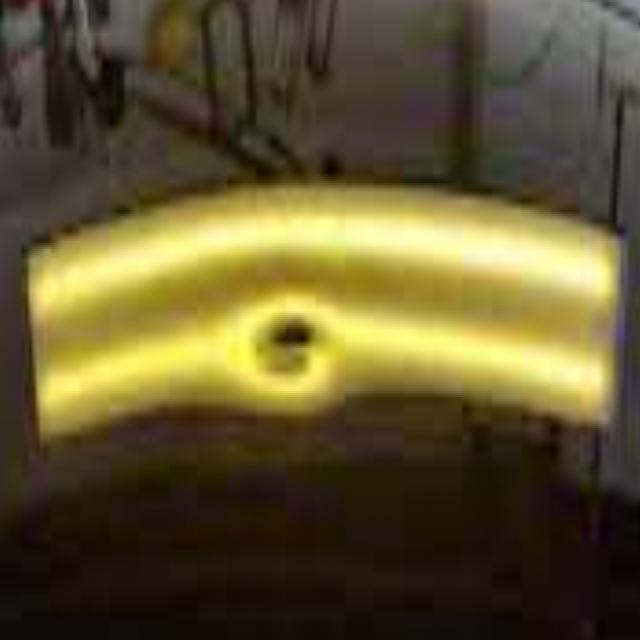dents: (249, 277, 337, 431)
